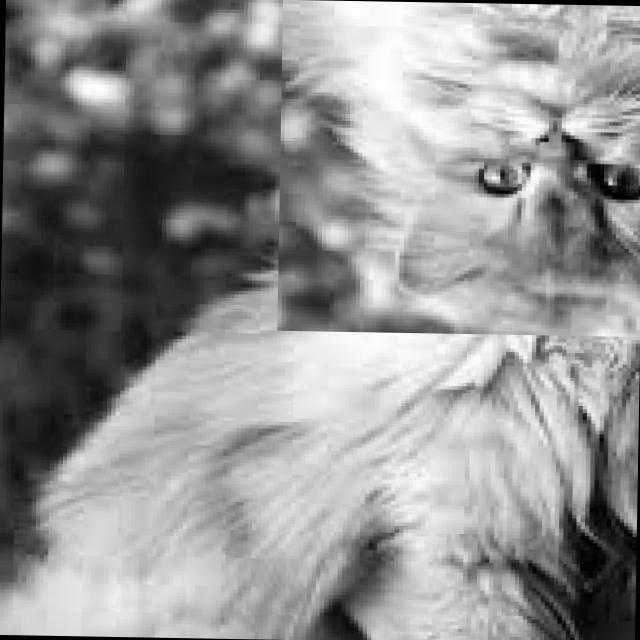british: (276, 0, 640, 336)
